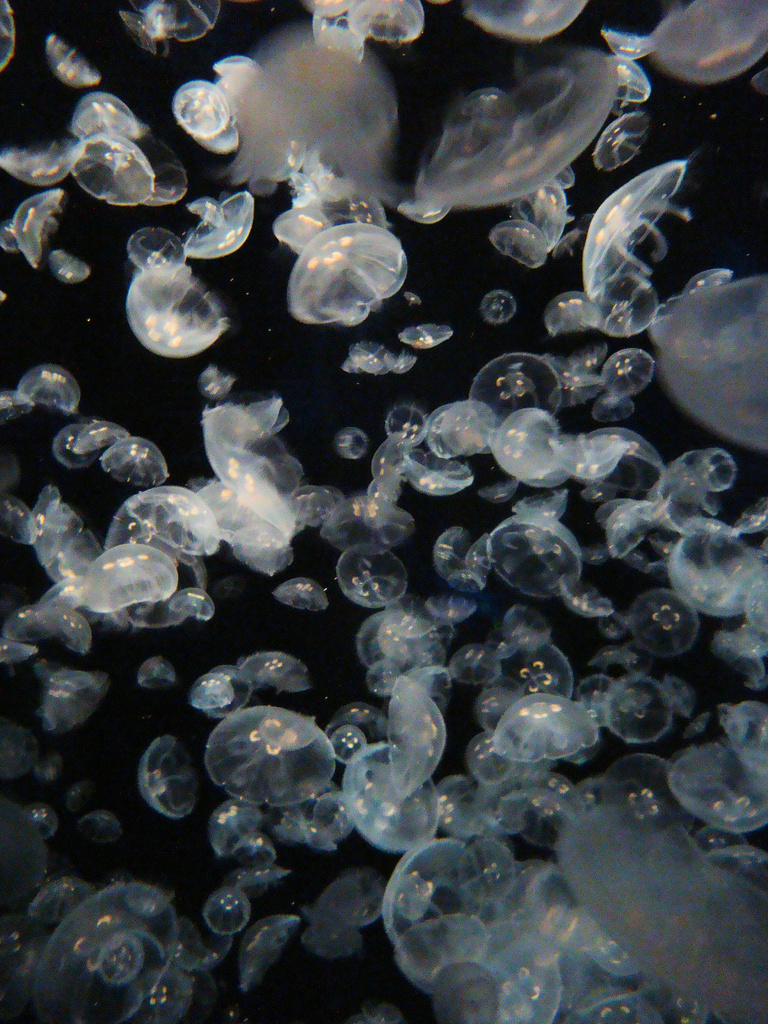Jellyfish: (0, 0, 767, 1023), (644, 260, 767, 456), (122, 238, 236, 343)
